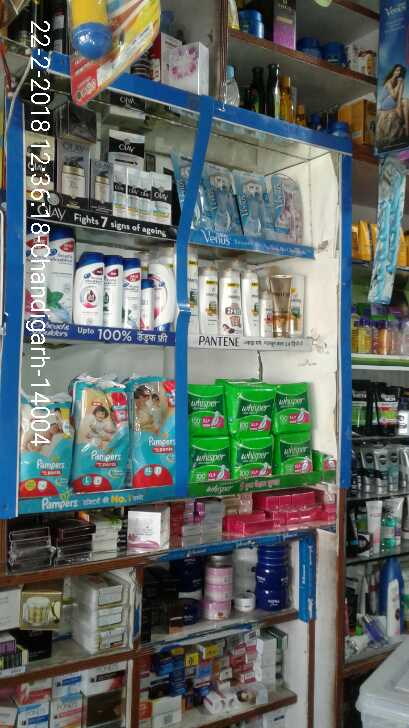venus: (372, 154, 408, 308), (237, 171, 274, 241), (175, 156, 211, 227), (274, 174, 303, 241), (211, 171, 237, 227)
